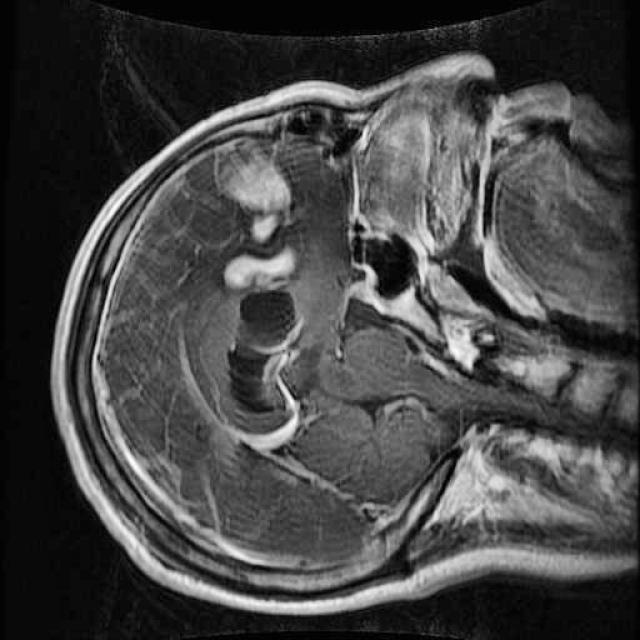Non-Tumor: (204, 128, 321, 461)
